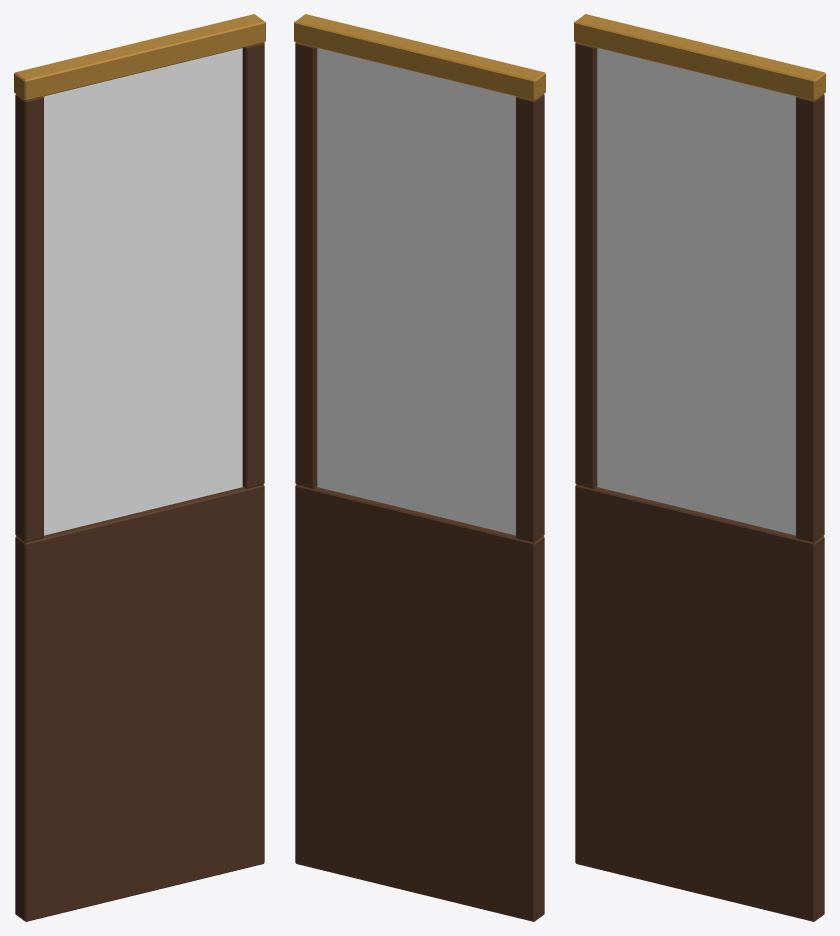
File: prop_of_booth_partition.glb
The picture shows the model from 3 angles, left to right: view 1: azimuth 30°, elevation 25°; view 2: azimuth 150°, elevation 25°; view 3: azimuth 330°, elevation 25°; orthographic projection.
Visible parts, largest first — view 1: Partition; view 2: Partition; view 3: Partition.
Part boxes in pixels (left/top/right/bottom): Partition: left=14, top=14, right=265, bottom=921; Partition: left=294, top=14, right=545, bottom=921; Partition: left=574, top=14, right=825, bottom=921.
Bounding box in the file's own units: 0.6 × 2 × 0.05.
